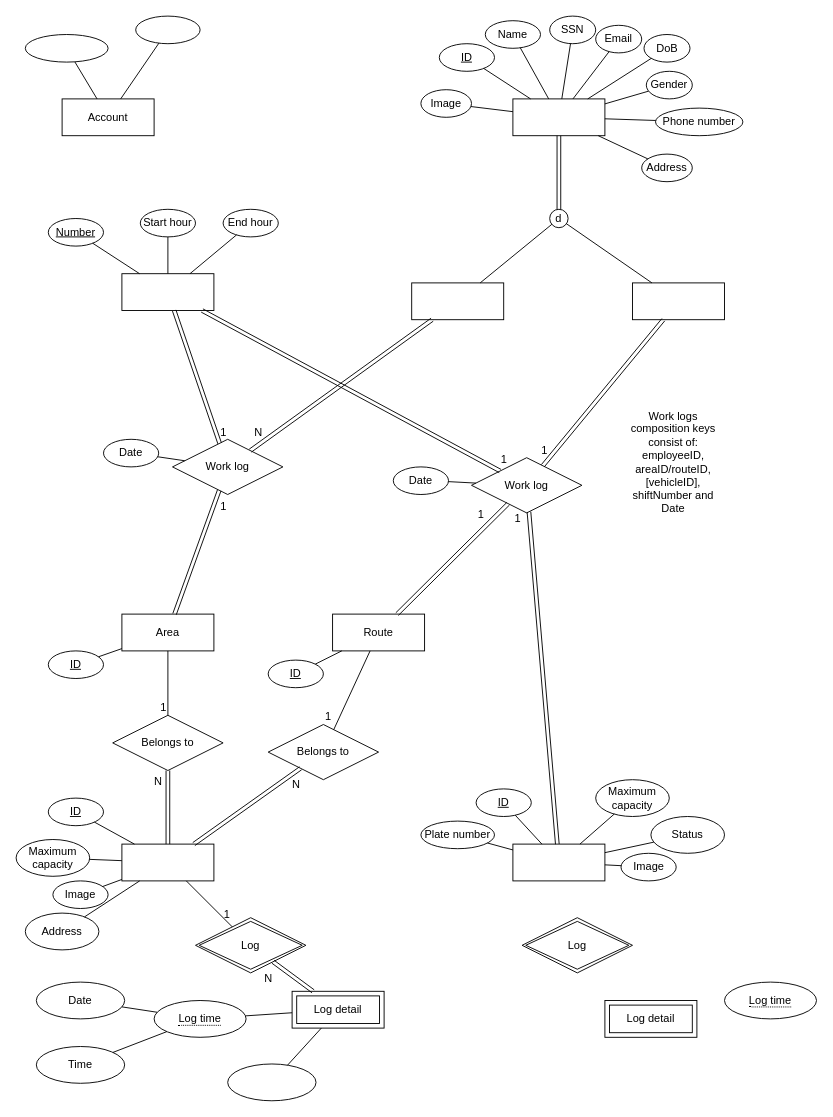
Some shapes in this 833 by 1117 pixel diagram are drawn without their labels. Each missing label, with the box of its shape:
Collector: (632, 282, 724, 320)
Current capacity: (227, 1063, 316, 1101)
Employee: (512, 98, 605, 136)
Janitor: (411, 282, 504, 320)
MCP: (121, 843, 214, 881)
Password: (135, 15, 200, 44)
Shift: (121, 273, 214, 310)
Username: (24, 34, 108, 62)
Vehicle: (512, 843, 605, 881)
